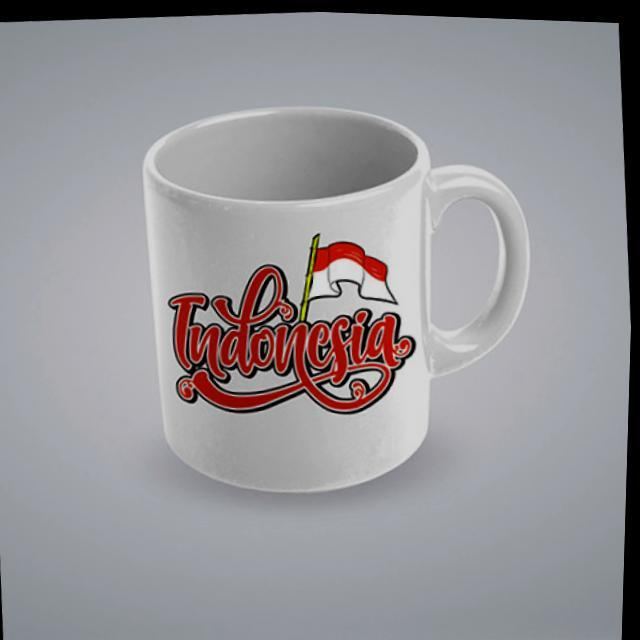cup: (114, 75, 562, 528)
